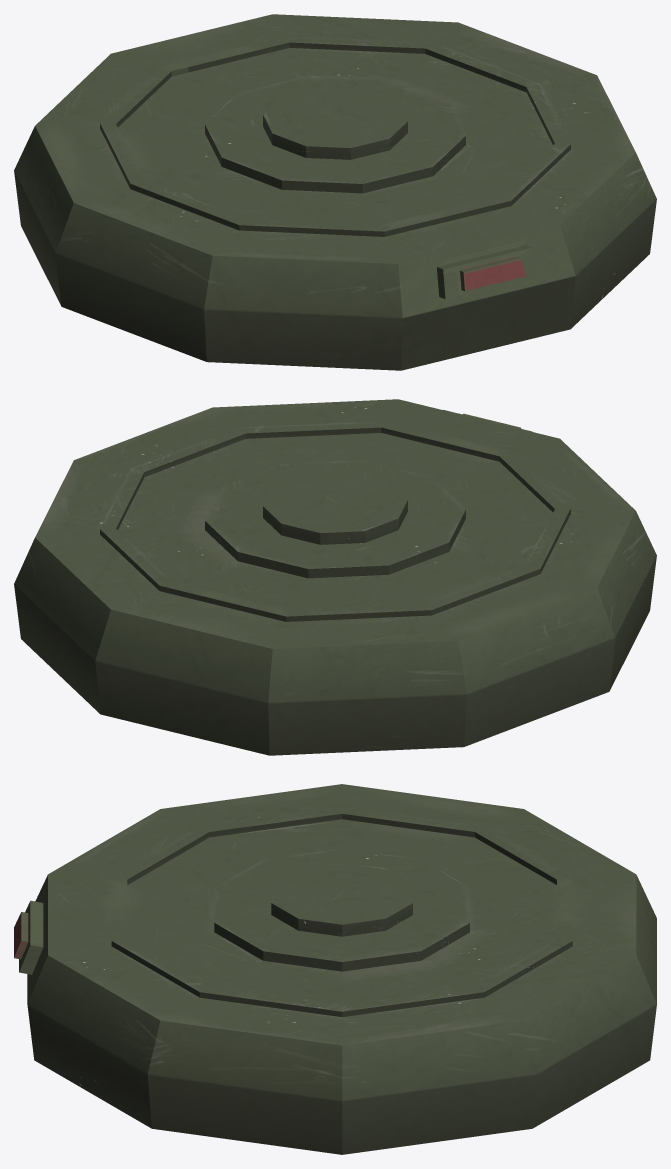
The model's file is landMine.fbx.
The picture shows the model from 3 angles, top to bottom: view 1: azimuth 30°, elevation 25°; view 2: azimuth 150°, elevation 25°; view 3: azimuth 270°, elevation 25°; orthographic projection. The views are drawn at different scales.
Parts seen in each view (by area): view 1: landmine; view 2: landmine; view 3: landmine.
Boxes of the visible parts, x1,y1,x2,y2 form: landmine: (14, 14, 656, 370); landmine: (14, 399, 656, 755); landmine: (14, 784, 656, 1154).
Bounding box in the file's own units: 1.52 × 0.3164 × 1.48.
1 material, 1 textured.
